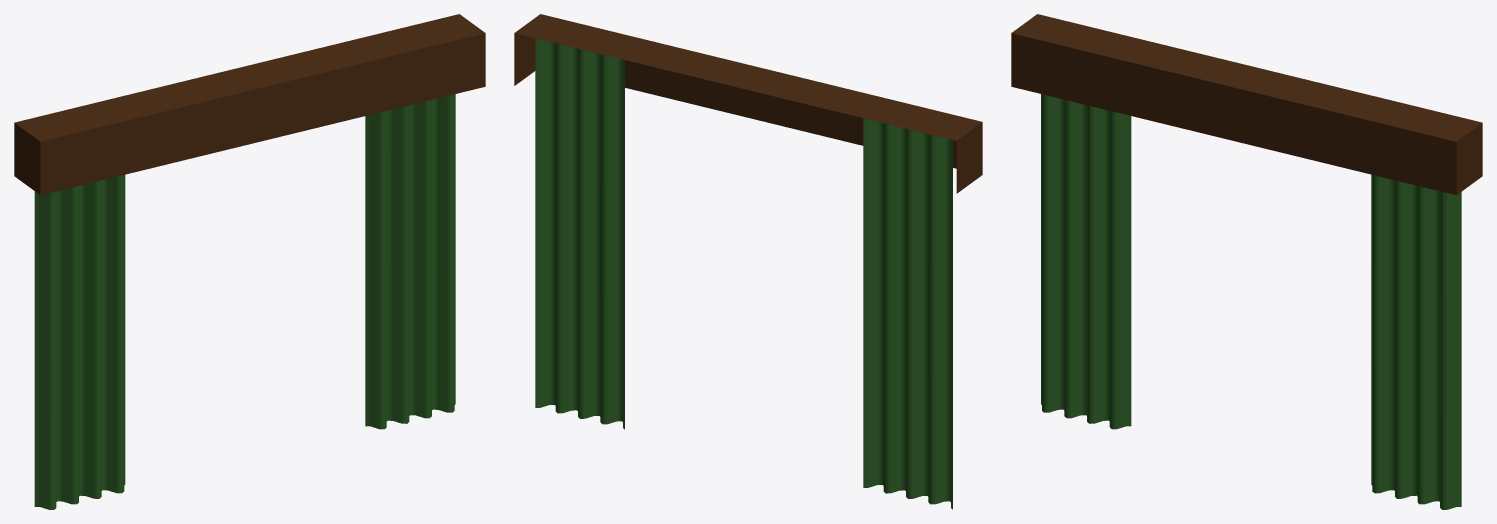
The model's file is HQ_MiddleCurtain.fbx.
3 renders of one model, left to right at view 1: azimuth 30°, elevation 25°; view 2: azimuth 150°, elevation 25°; view 3: azimuth 330°, elevation 25°, orthographic.
Visible parts, largest first — view 1: HQ_MiddleCurtain; view 2: HQ_MiddleCurtain; view 3: HQ_MiddleCurtain.
Part boxes in pixels (x1,y1,x2,y2): HQ_MiddleCurtain: (14, 14, 485, 509); HQ_MiddleCurtain: (514, 14, 982, 509); HQ_MiddleCurtain: (1011, 14, 1482, 509).
Bounding box in the file's own units: 14.17 × 11.58 × 1.44.
